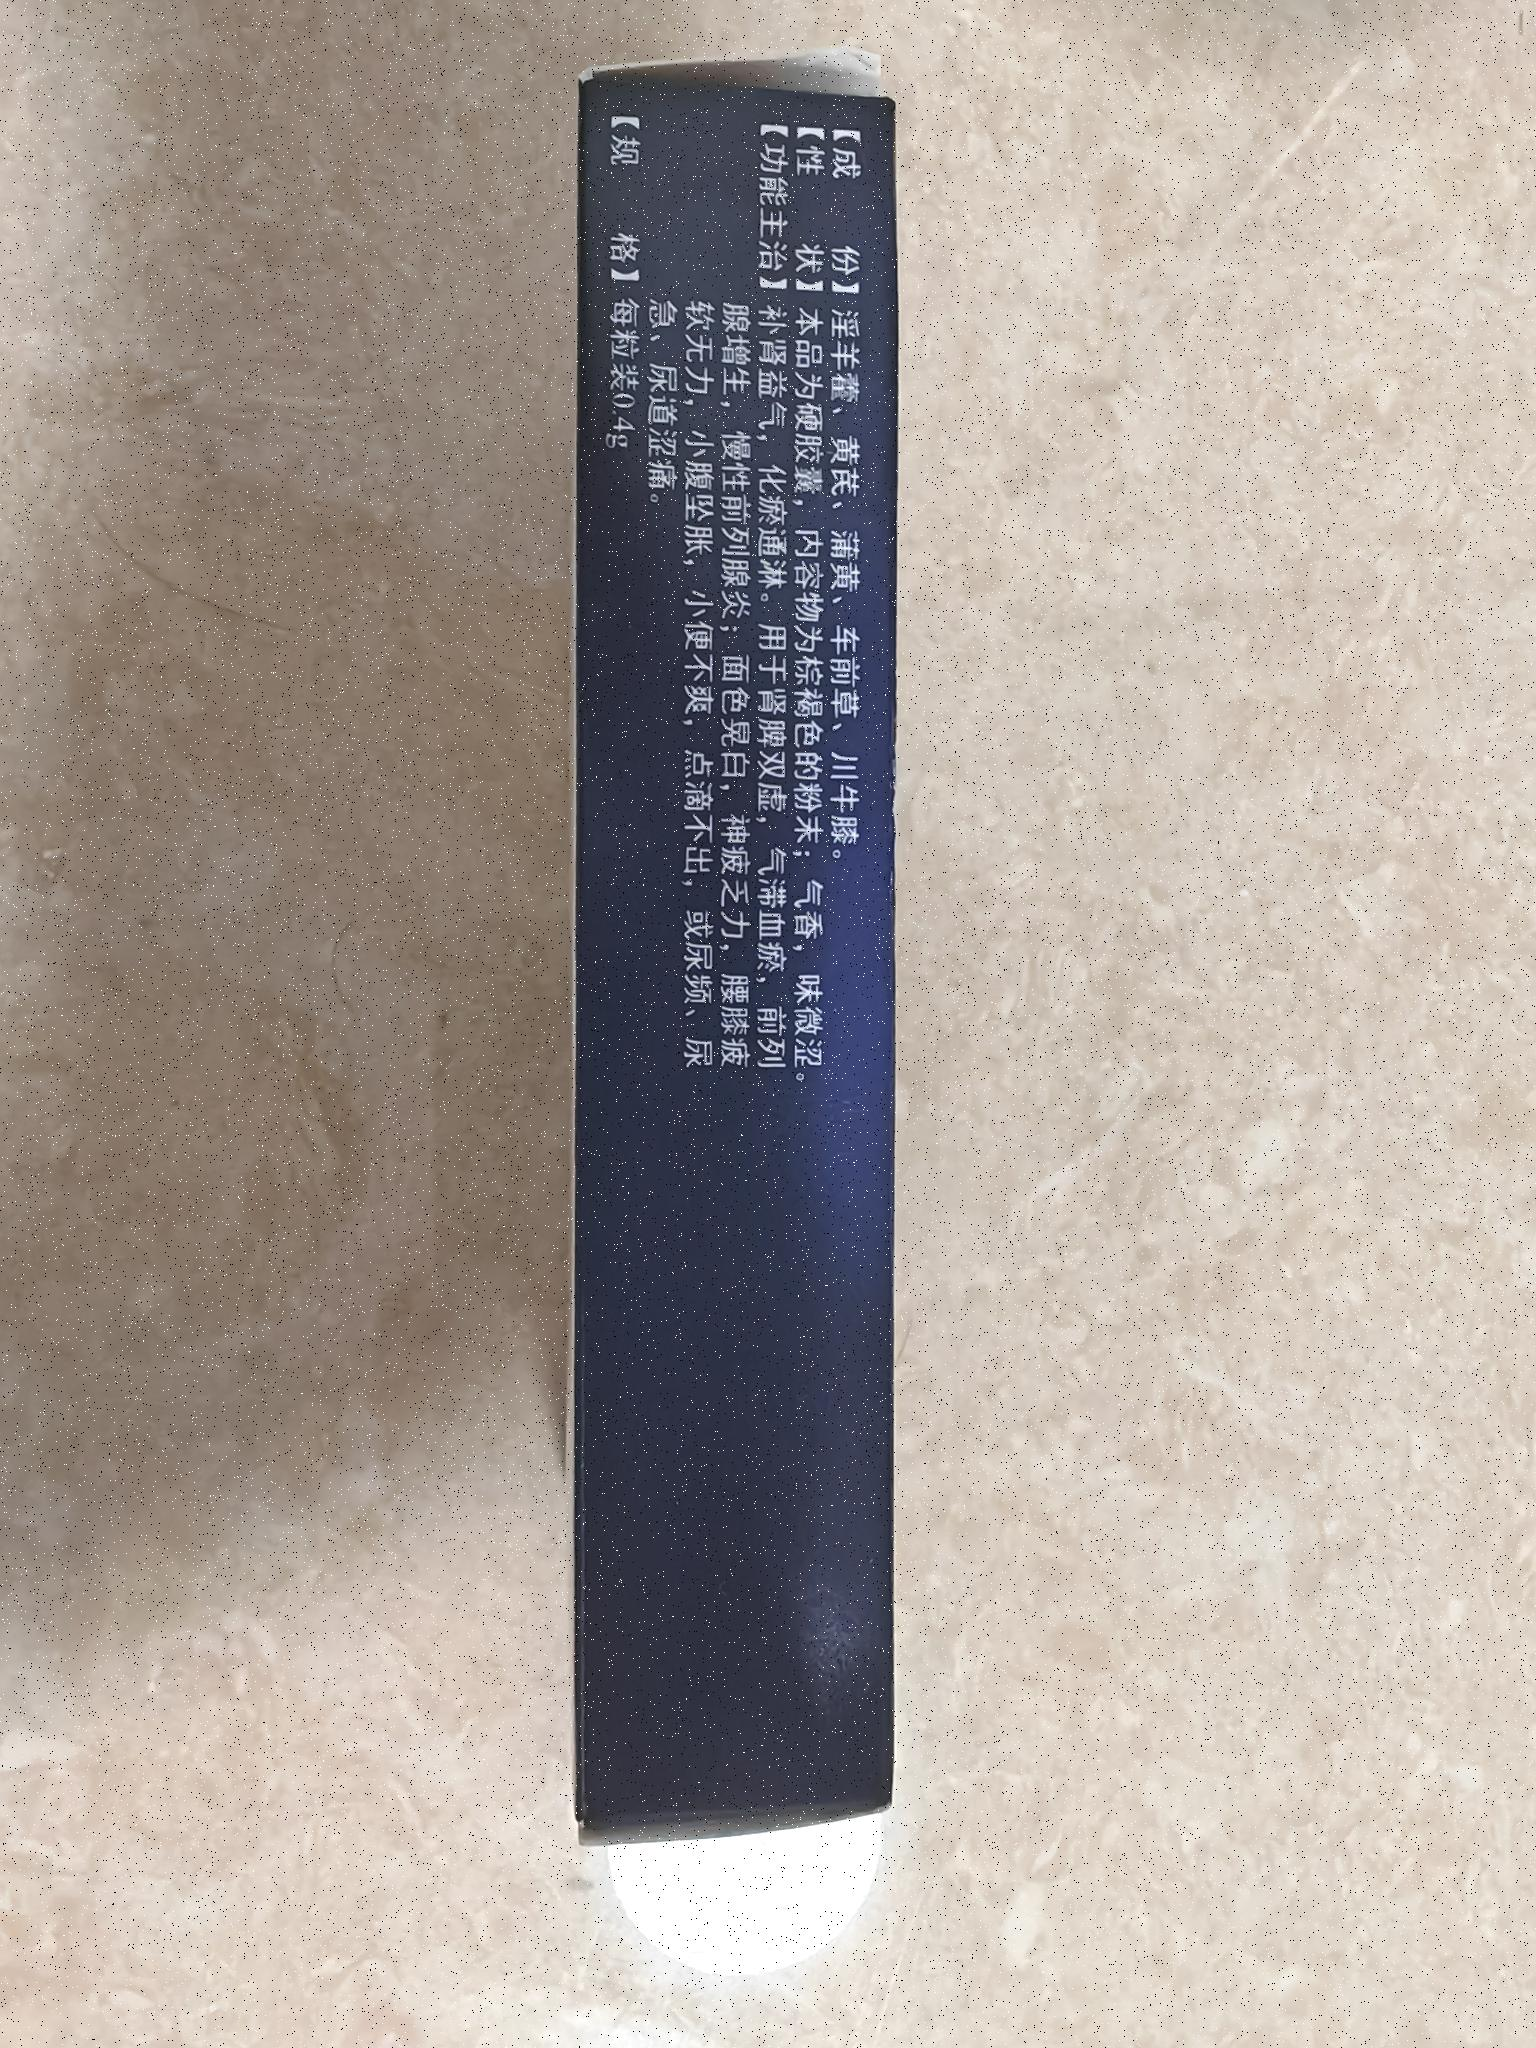Medicine2: (537, 35, 928, 1867)
